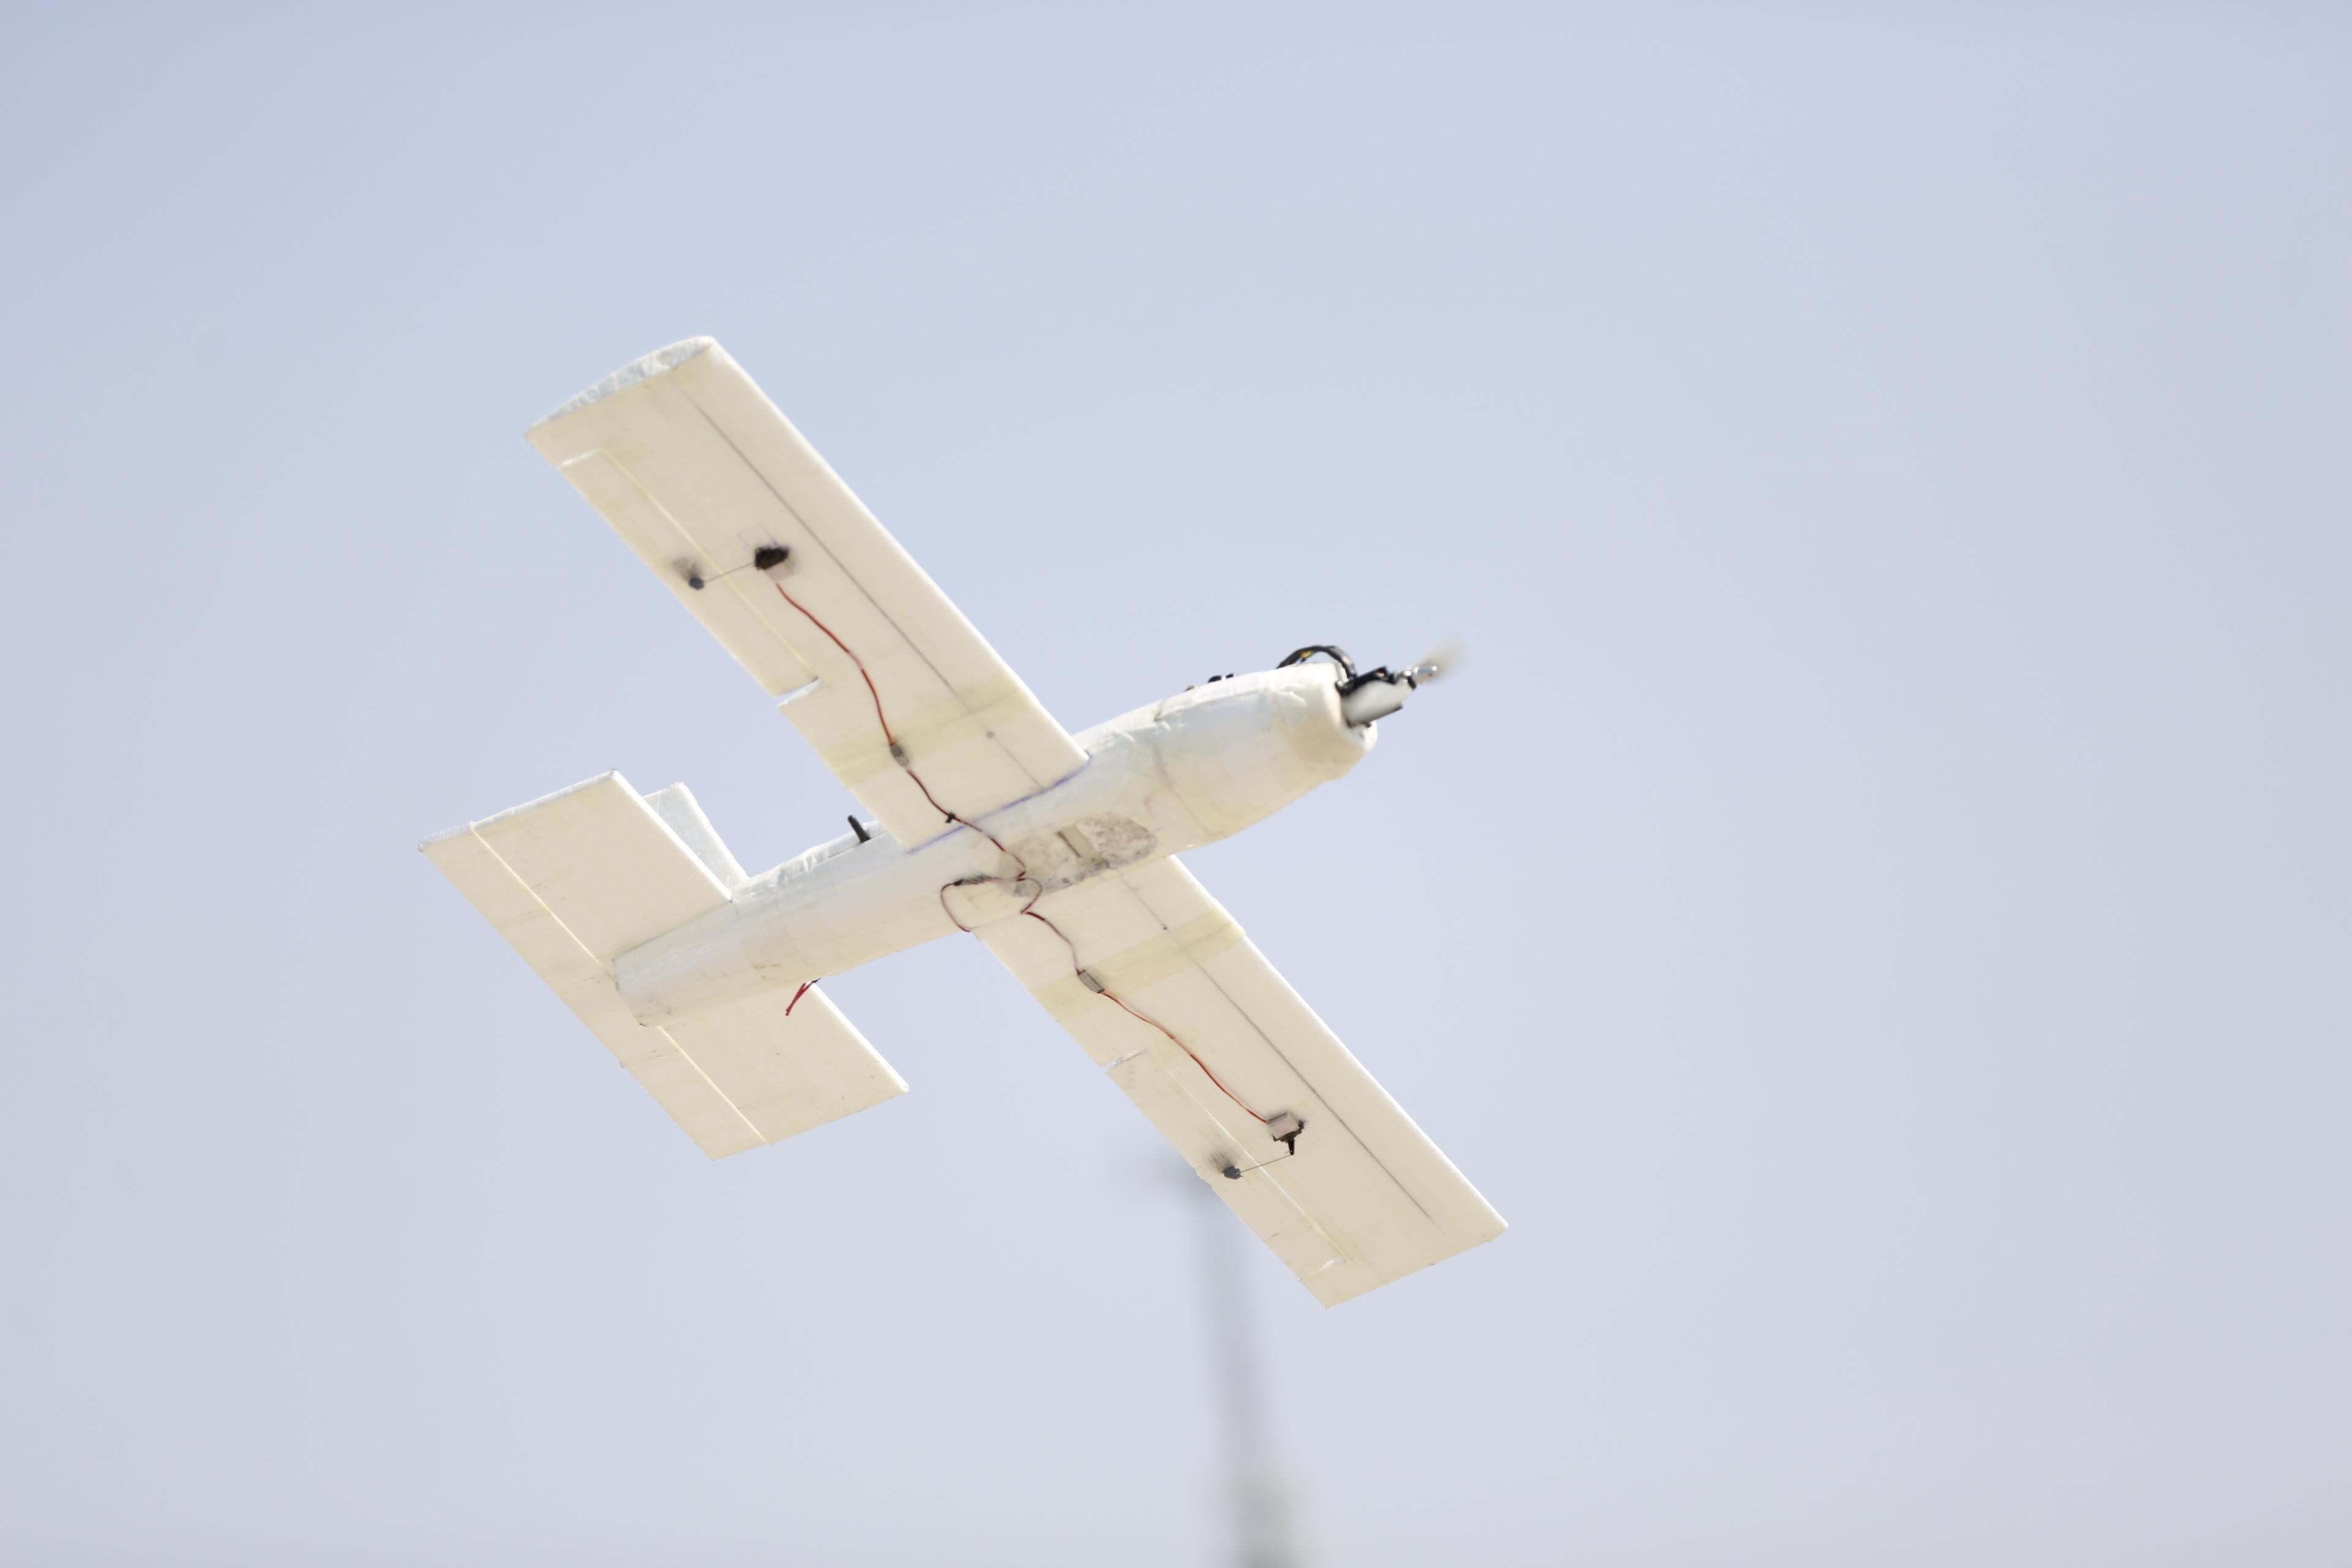Airplane: (418, 331, 1509, 1311)
